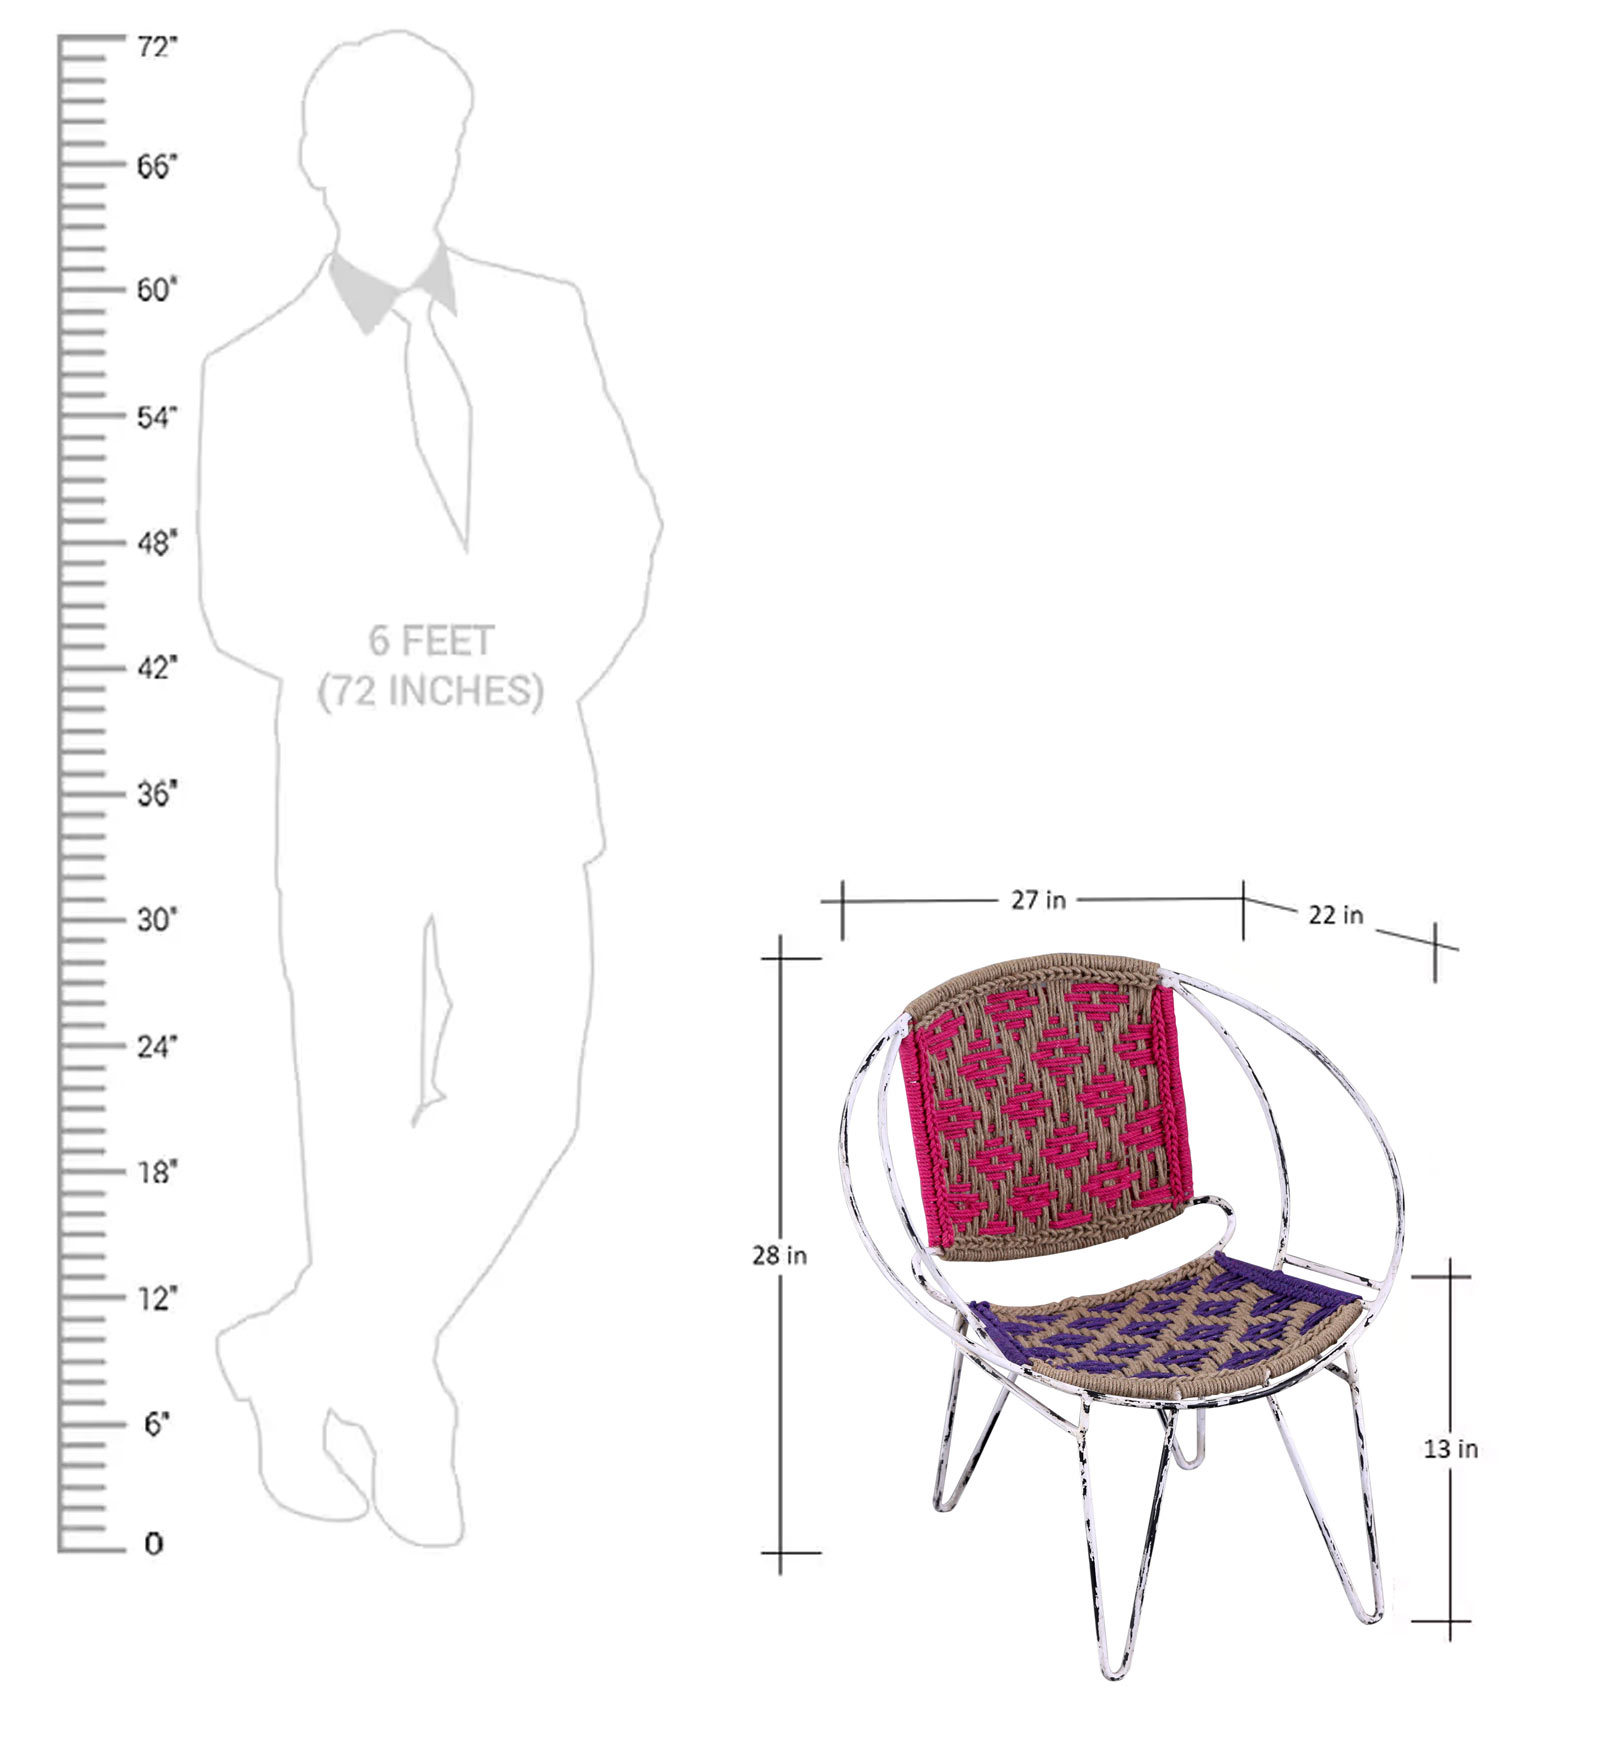Ambatovy Outdoor Chair in Multicolour by Bohemiana: (798, 937, 1411, 1657)
